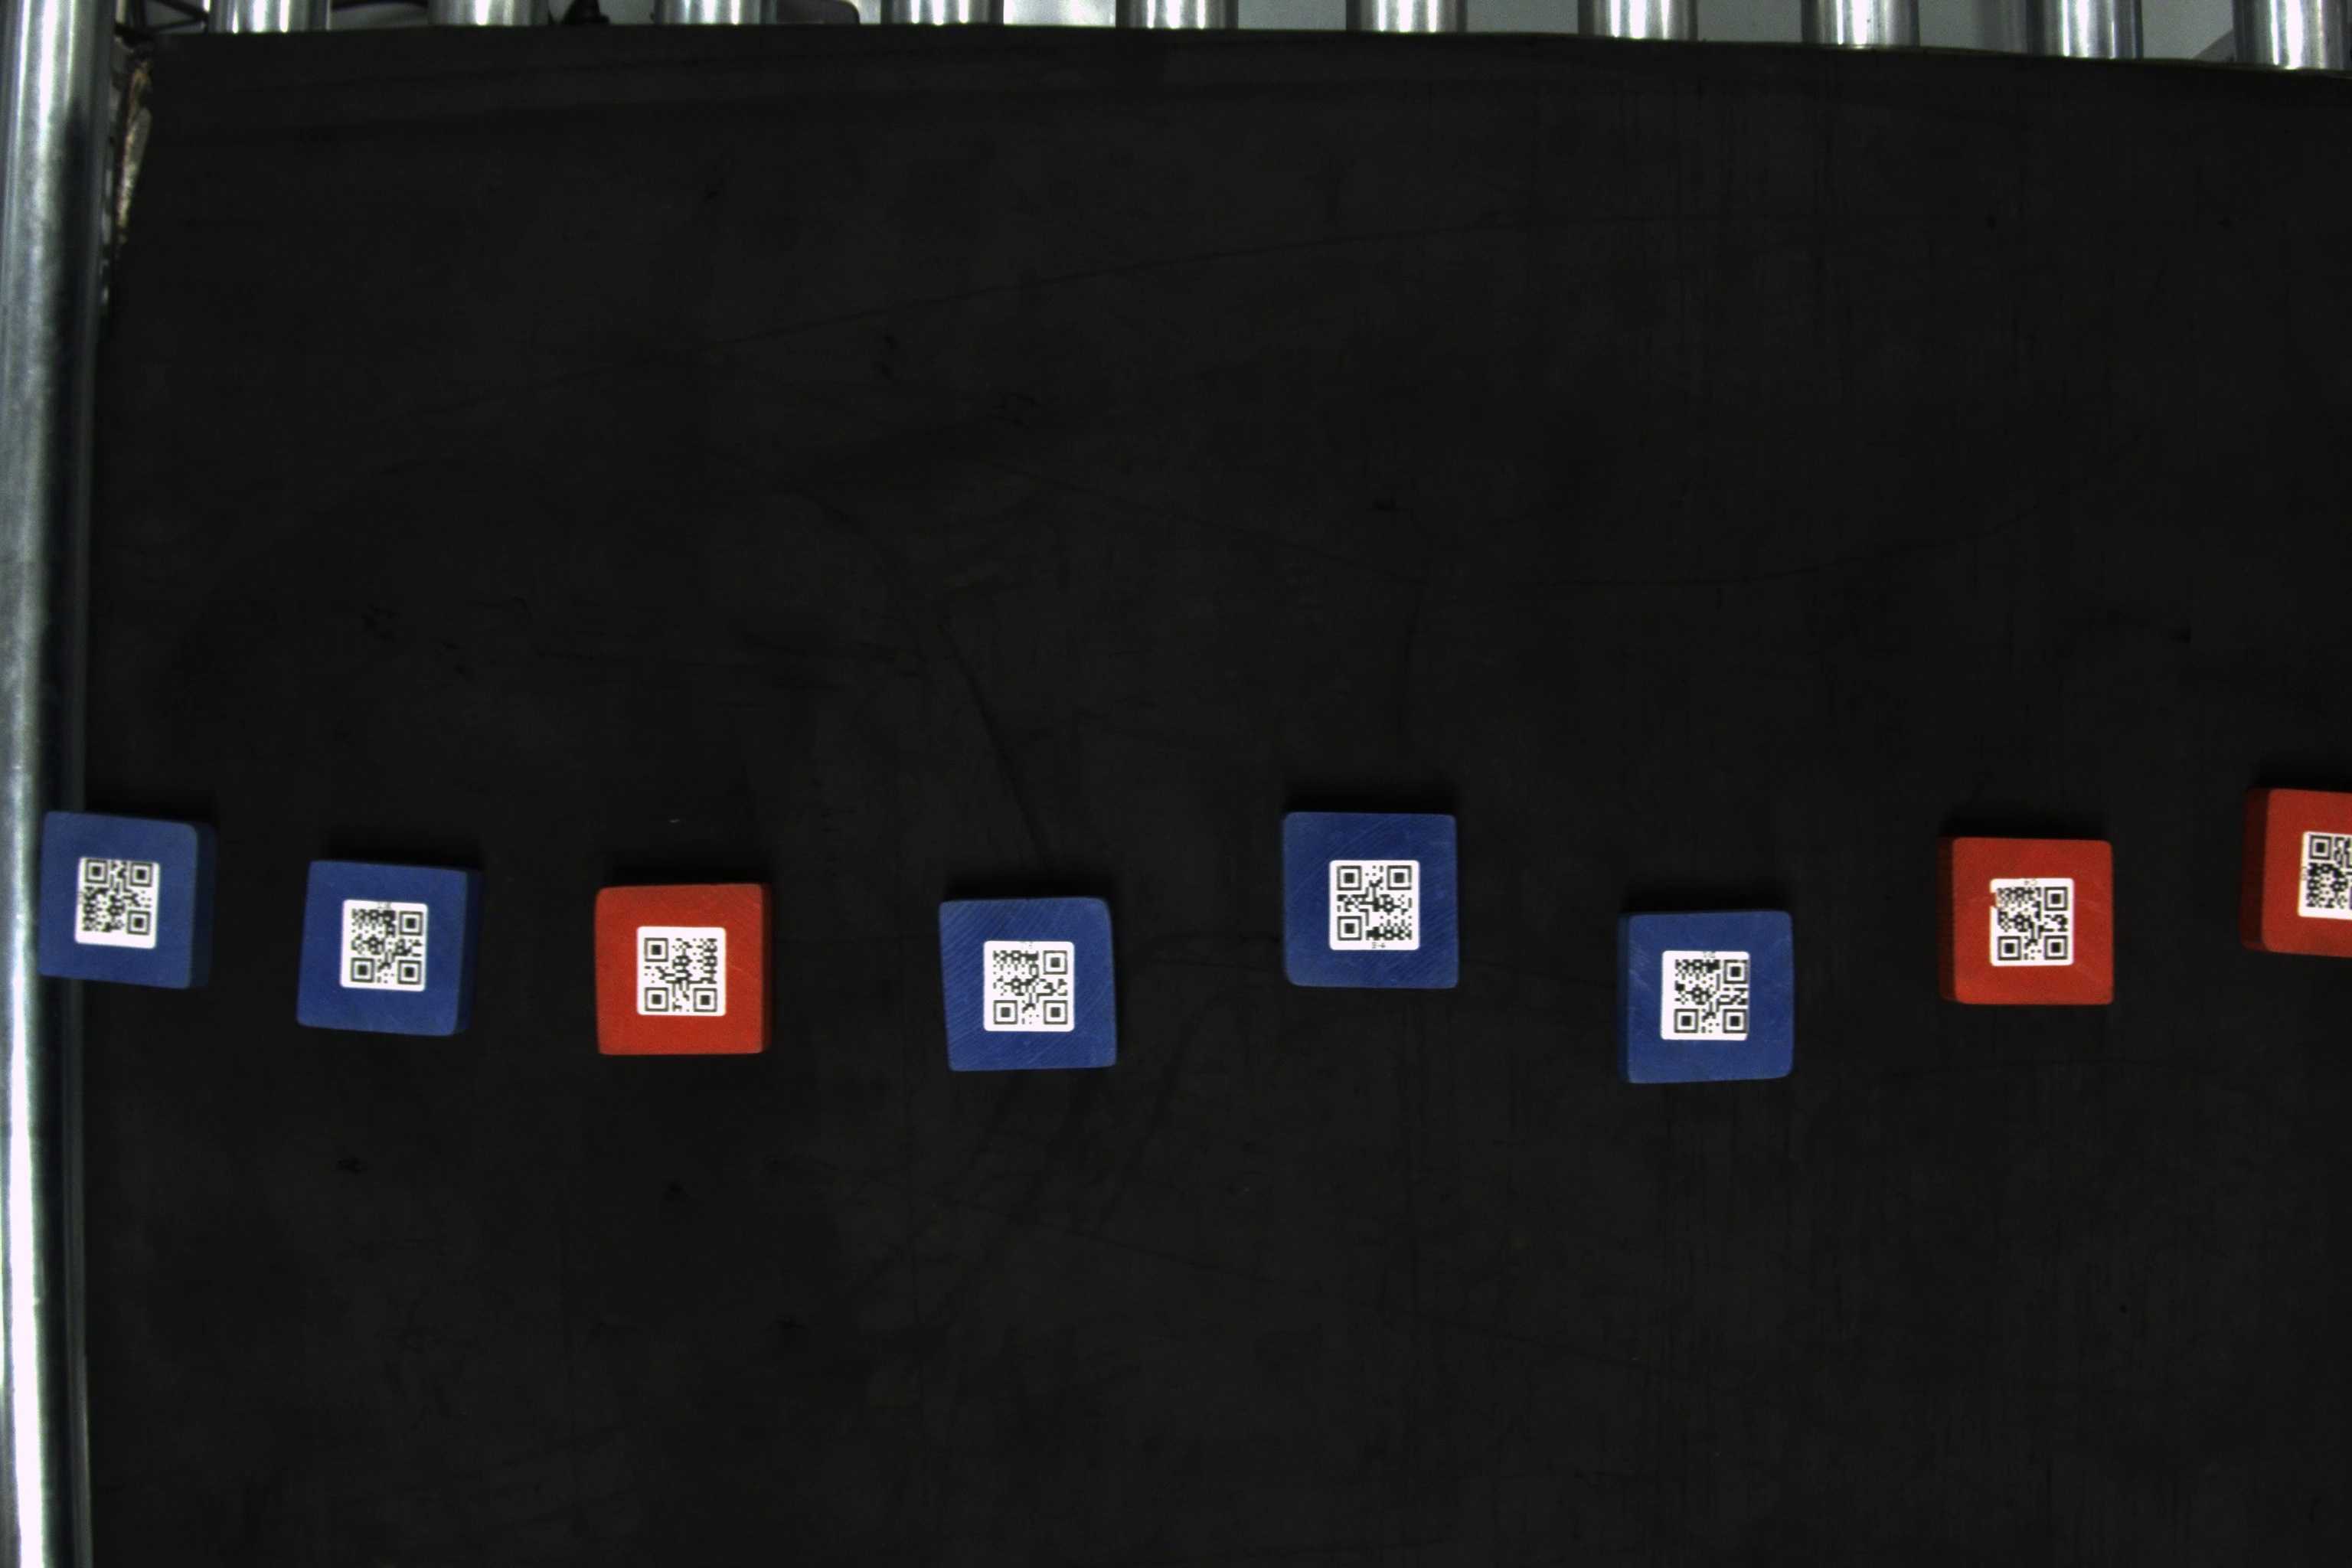wood: (1269, 808, 1470, 992), (933, 894, 1130, 1073), (294, 857, 478, 1045), (584, 882, 775, 1060), (1935, 831, 2123, 1011), (1615, 910, 1804, 1085), (37, 814, 220, 992), (2238, 784, 2347, 962)
